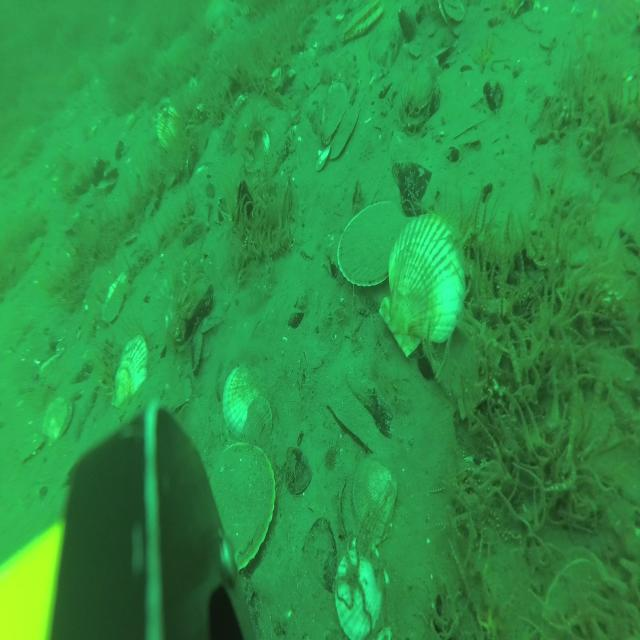scallop: (378, 214, 463, 357), (206, 441, 274, 572), (337, 202, 407, 287), (336, 545, 391, 640), (356, 455, 397, 541), (224, 366, 269, 438), (111, 335, 147, 407), (340, 0, 384, 44), (328, 103, 357, 162), (318, 83, 343, 143), (44, 392, 72, 443), (104, 274, 131, 326), (244, 399, 274, 442), (155, 106, 178, 150)
starfish: (206, 0, 235, 32)
